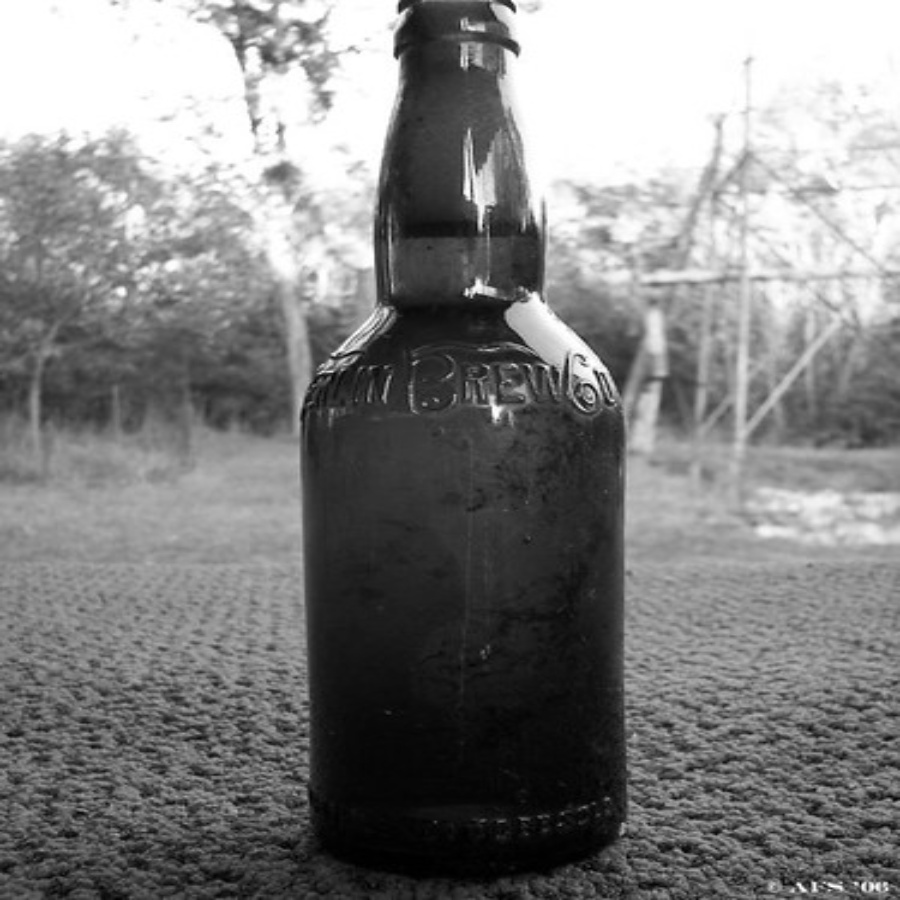beer: (300, 3, 637, 866)
